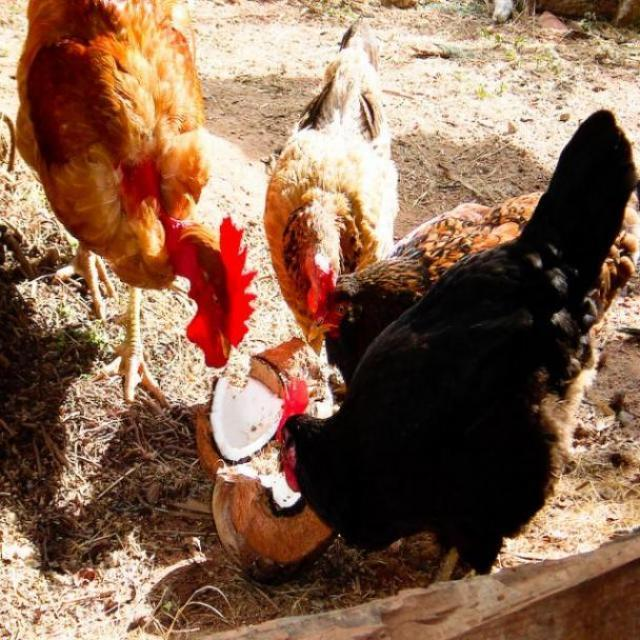Chicken: (271, 106, 640, 589), (276, 105, 639, 588), (11, 0, 251, 402), (259, 11, 401, 360), (261, 7, 399, 361), (303, 190, 548, 381), (304, 191, 548, 361)
